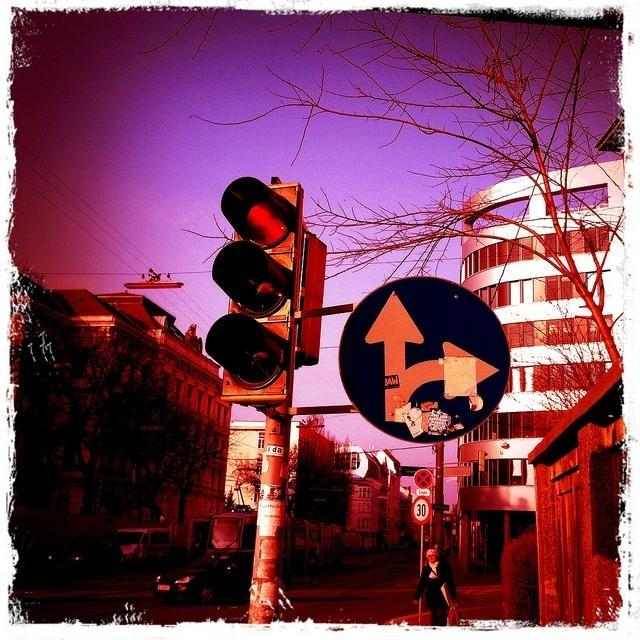car: (153, 549, 254, 603), (45, 534, 123, 574), (118, 528, 170, 559)
